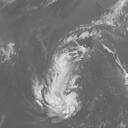cyclone: (43, 51, 81, 116)
